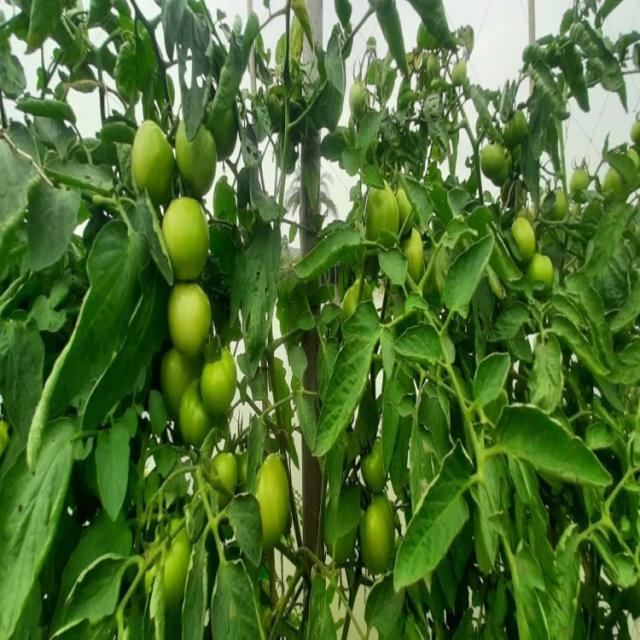tomato: (159, 198, 218, 275), (150, 512, 196, 601), (173, 111, 218, 194), (127, 118, 172, 199), (163, 278, 208, 355), (251, 451, 285, 540), (362, 496, 398, 578), (363, 182, 397, 245), (207, 451, 240, 509), (407, 227, 436, 291), (477, 140, 520, 180), (209, 357, 240, 411), (404, 179, 437, 224), (524, 254, 557, 292), (506, 100, 542, 133), (180, 403, 207, 446), (364, 444, 387, 490), (513, 217, 543, 248), (571, 168, 600, 200), (163, 362, 187, 399), (452, 59, 477, 92), (353, 74, 375, 108), (547, 183, 568, 216), (624, 119, 640, 147)
